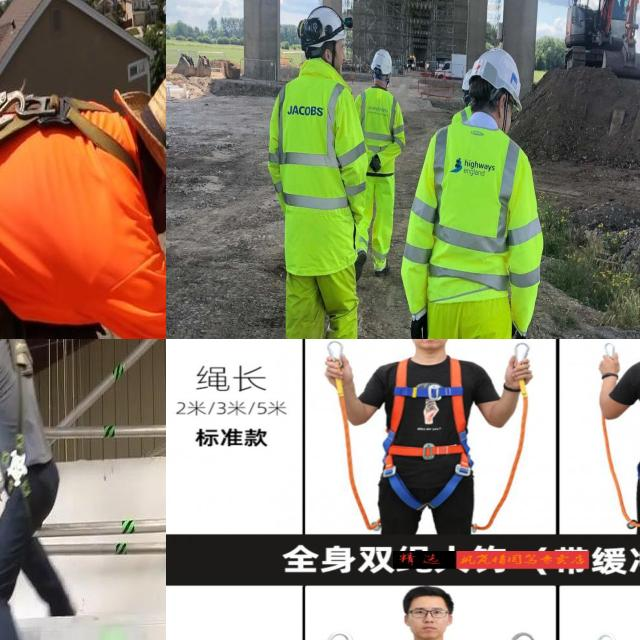Harness: (390, 356, 474, 509), (0, 92, 139, 178), (6, 339, 34, 488)
head_helmet: (470, 48, 525, 106), (300, 5, 353, 53), (371, 49, 394, 75), (460, 68, 474, 91)
person: (402, 50, 541, 339), (264, 12, 366, 339), (356, 43, 405, 275)
vest: (405, 121, 540, 295), (269, 73, 369, 214), (357, 88, 405, 170)
